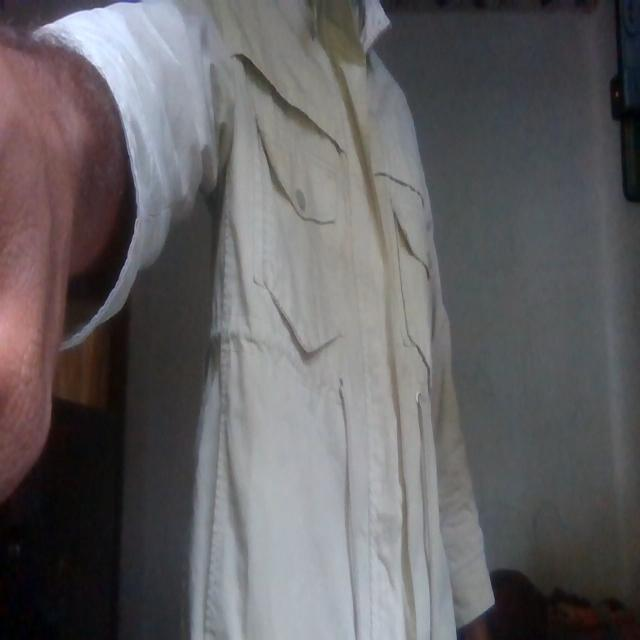Jacket_Wearer: (60, 0, 475, 640)
Person: (0, 1, 492, 640)
